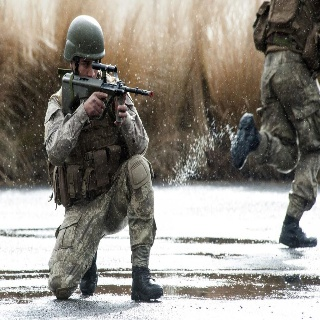rifle: (61, 60, 156, 123)
